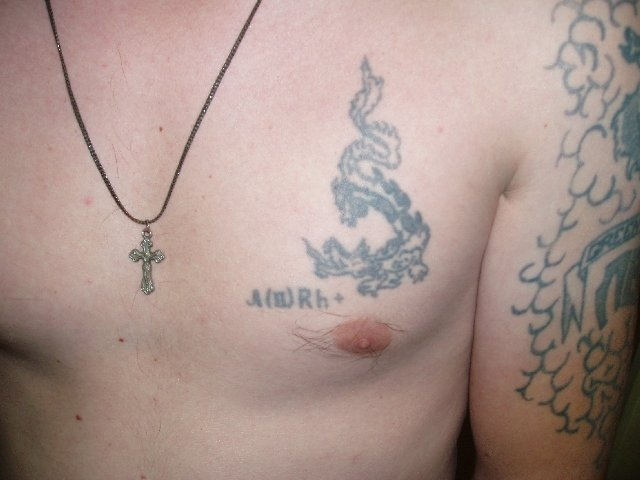tatu3_bukva: (293, 42, 438, 298)
